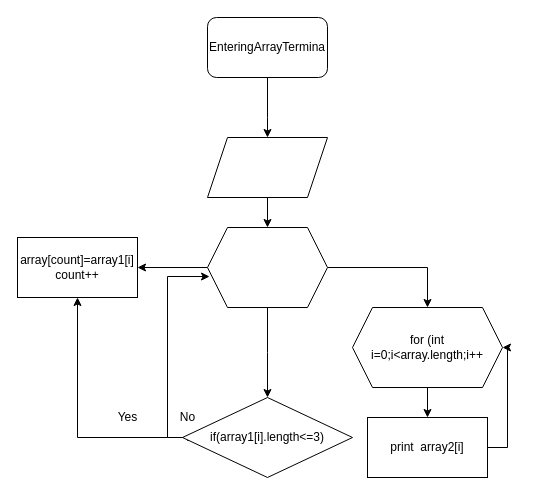
Image size: 533x495. Some labels were removed from this diagram. Here are the shapes that lost their labels. From the top down, the centre of each, then its label:
At point (267, 167): "string[] array1 string array2 int count = 0".
At point (267, 267): "for (int i =0; i<array1.length;i++".
